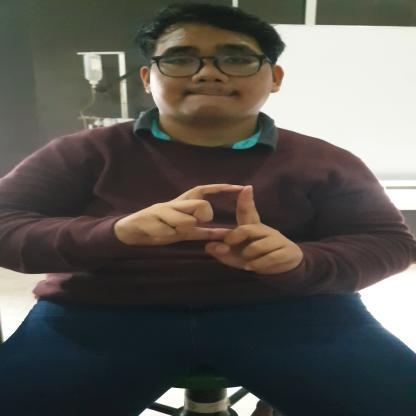D: (124, 183, 302, 274)
